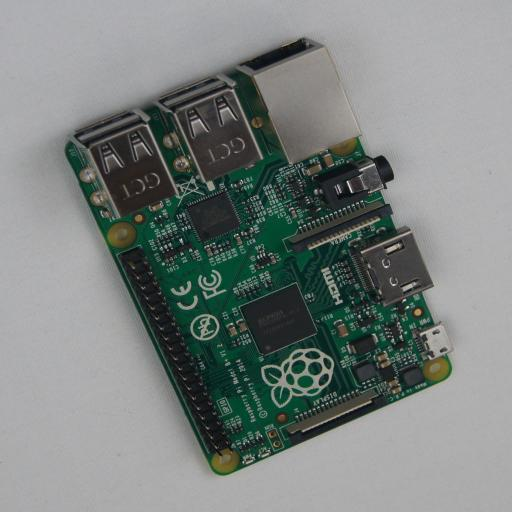Raspberry Pi 1 B-: (64, 37, 452, 475)
